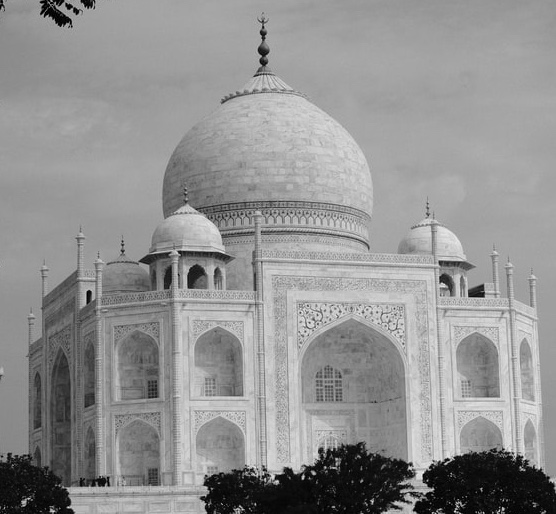Mosque: (39, 6, 550, 476)
